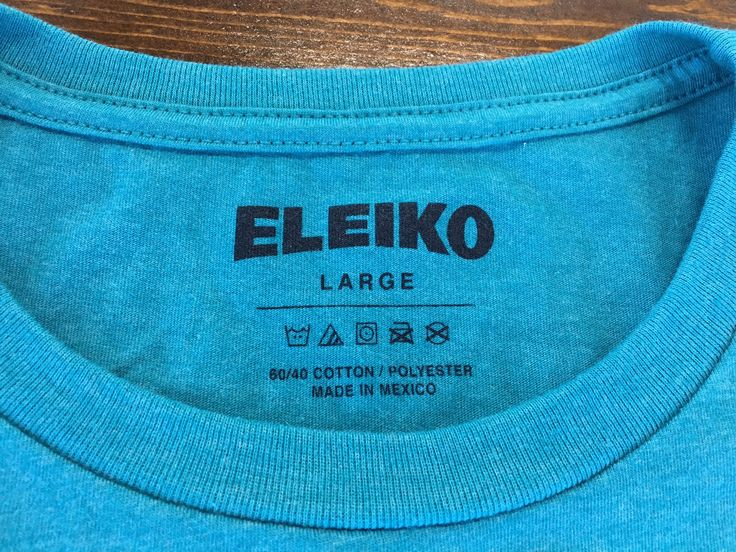ER_no_dry_clean: (421, 317, 453, 349)
ER_no_iron: (386, 319, 418, 349)
ER_non_chlorine_bleach: (316, 321, 348, 352)
ER_tumble_dry_low_heat: (352, 317, 382, 351)
